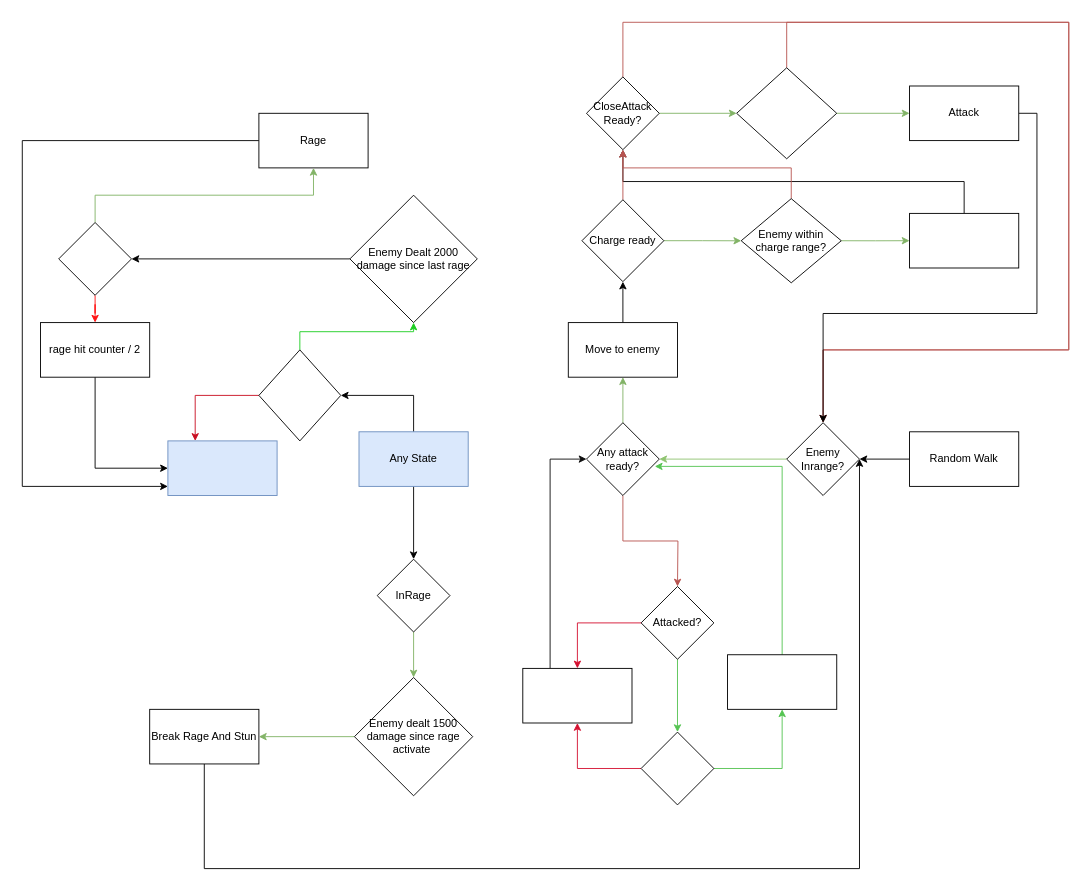
Image size: 1092x892. Some labels were removed from this diagram. The shapes that lost their labels are listed below. From the top down, each one's centre as x and y in pixels, then its label:
At point (786, 113): "in Close Attack Range".
At point (94, 258): "In rage".
At point (964, 240): "Charge".
At point (299, 395): "Health Below 10%".
At point (222, 467): "Go Back to Last State".
At point (577, 695): "Circle Around Enemy".
At point (782, 681): "Block".
At point (677, 768): "Blocking Ready".
